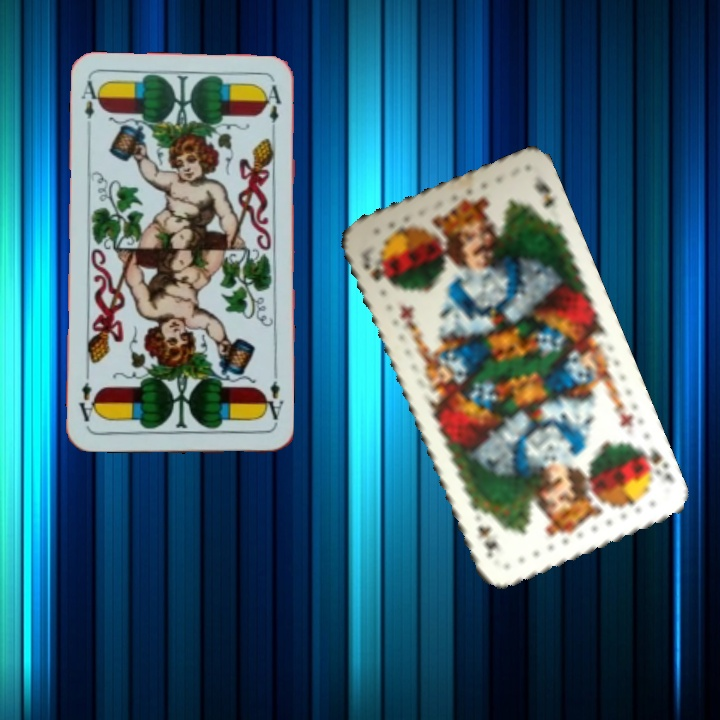EA: (258, 369, 286, 428), (78, 76, 104, 121)
SK: (633, 443, 676, 486), (356, 253, 394, 290)
